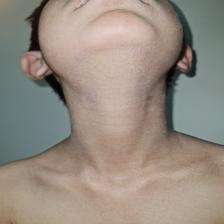DA: (67, 48, 169, 158)
